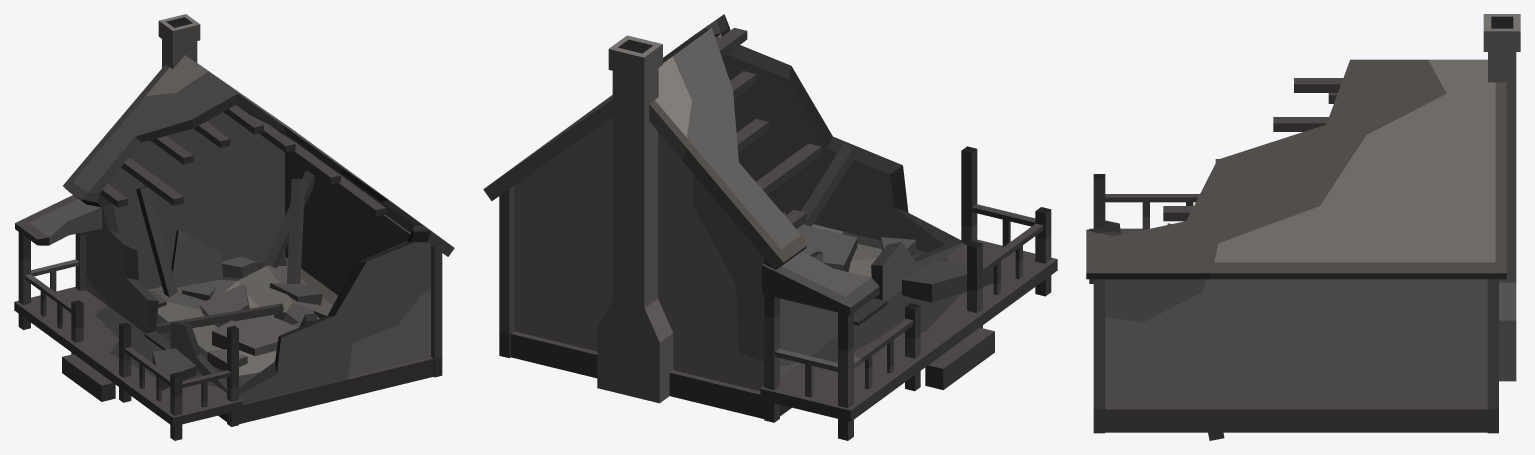
File: SA_Bld_BurntHouse_01.gltf
3 views of the same model, side by side, from view 1: azimuth 30°, elevation 25°; view 2: azimuth 150°, elevation 25°; view 3: azimuth 270°, elevation 25° (orthographic). The views are drawn at different scales.
Visible parts, largest first — view 1: SA_Bld_BurntHouse_01; view 2: SA_Bld_BurntHouse_01; view 3: SA_Bld_BurntHouse_01.
Part boxes in pixels (x1=…): SA_Bld_BurntHouse_01: x1=14, y1=14, x2=454, y2=440; SA_Bld_BurntHouse_01: x1=483, y1=14, x2=1057, y2=440; SA_Bld_BurntHouse_01: x1=1086, y1=14, x2=1520, y2=440.
Size of the model in its own units: 15.4 by 14.69 by 15.25.
Materials: 1 (1 with a texture image).
